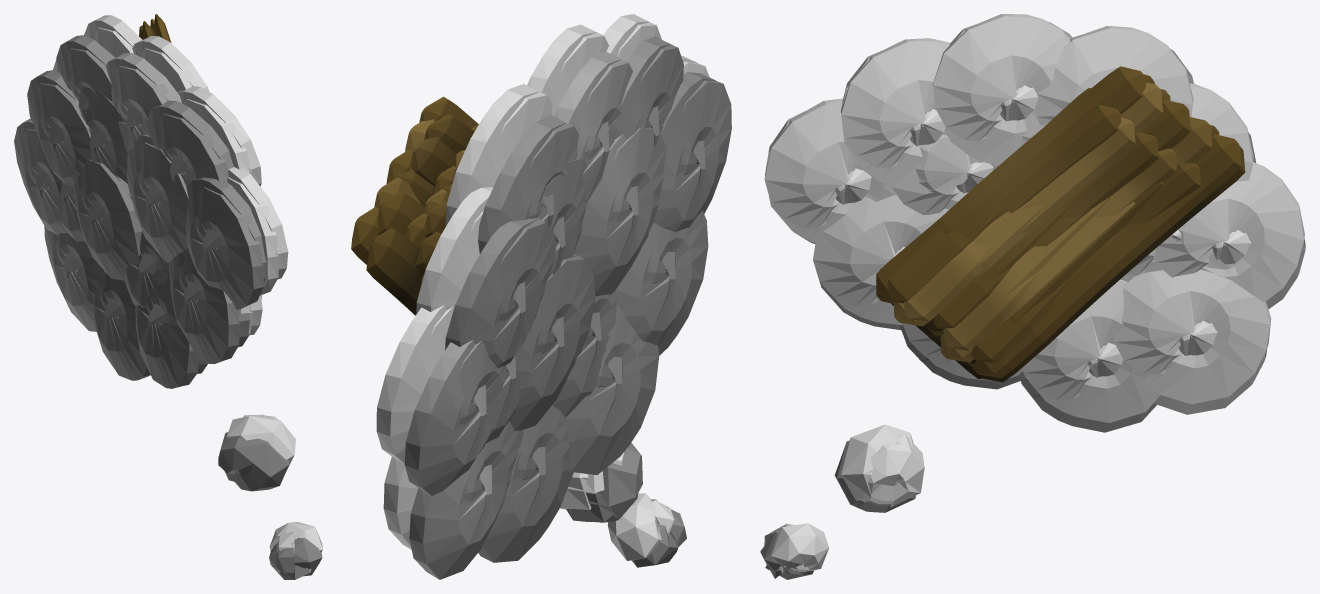
Rendered from WantBridge.fbx.
3 views of the same model, side by side, from view 1: azimuth 30°, elevation 25°; view 2: azimuth 150°, elevation 25°; view 3: azimuth 270°, elevation 25° (orthographic). The views are drawn at different scales.
Parts seen in each view (by area): view 1: Bridge; view 2: Bridge; view 3: Bridge.
Part boxes in pixels (x1,y1,x2,y2): Bridge: [14, 14, 322, 579]; Bridge: [351, 14, 731, 579]; Bridge: [760, 14, 1305, 579].
Bounding box in the file's own units: 0.3114 × 1.29 × 1.17.
